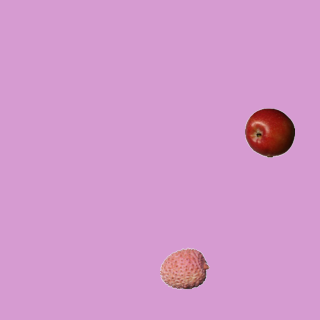Apple Braeburn: (244, 107, 294, 157)
Lychee: (159, 243, 209, 293)
